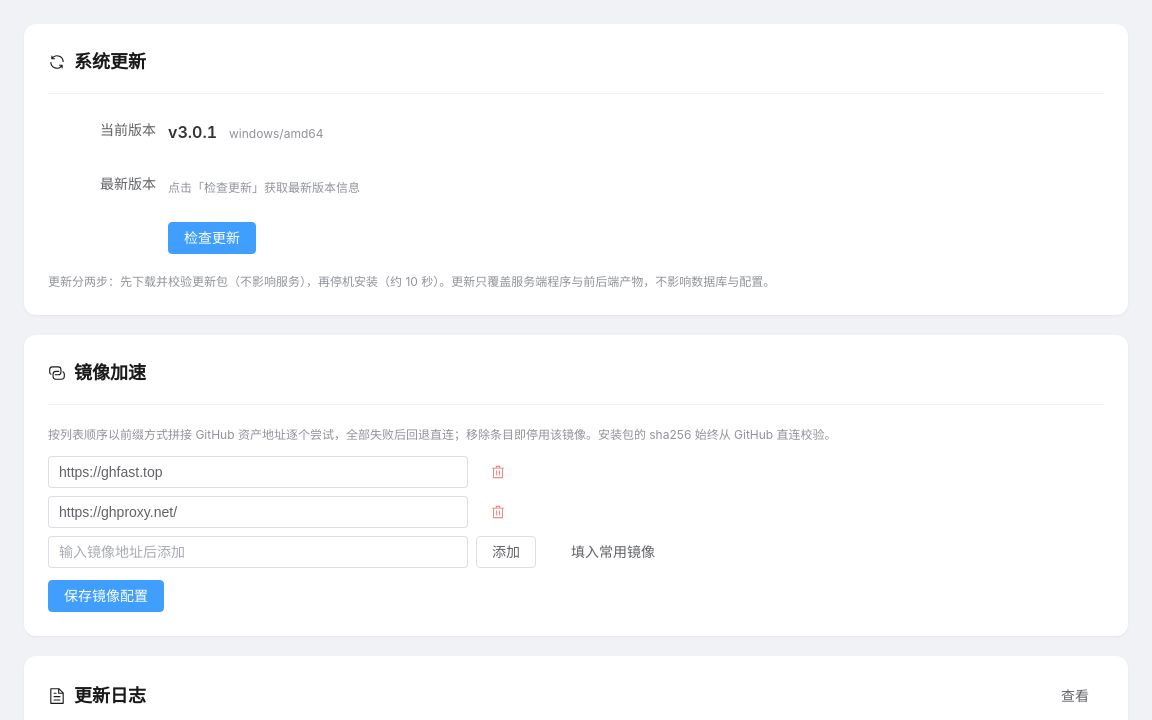
Test: UpdateManage 镜像管理 › 移除镜像：从草稿中删除
This screenshot has width=1152, height=720.
Expected: the number of elements with class "mirror-row" is 2, 48,456 -> 520,488; 48,496 -> 520,528
Click the 2nd button: (498, 472) 476,456 -> 520,488
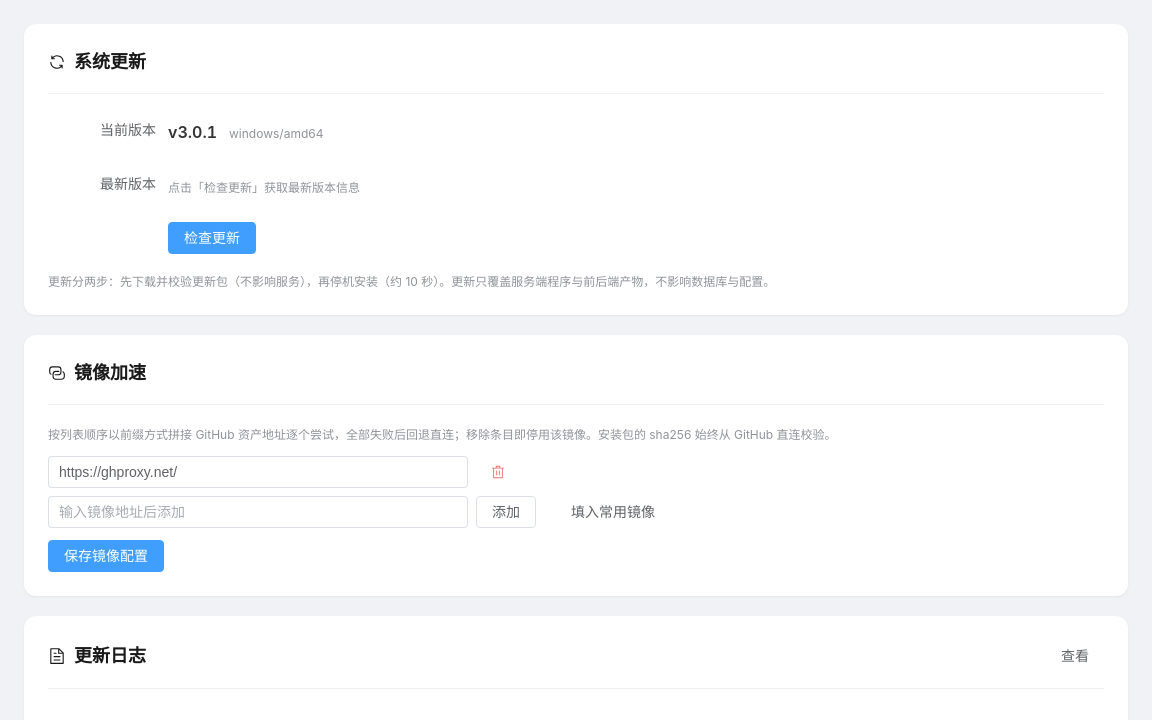
Now the number of elements with class "mirror-row" is 1, box 48,456 -> 520,488
